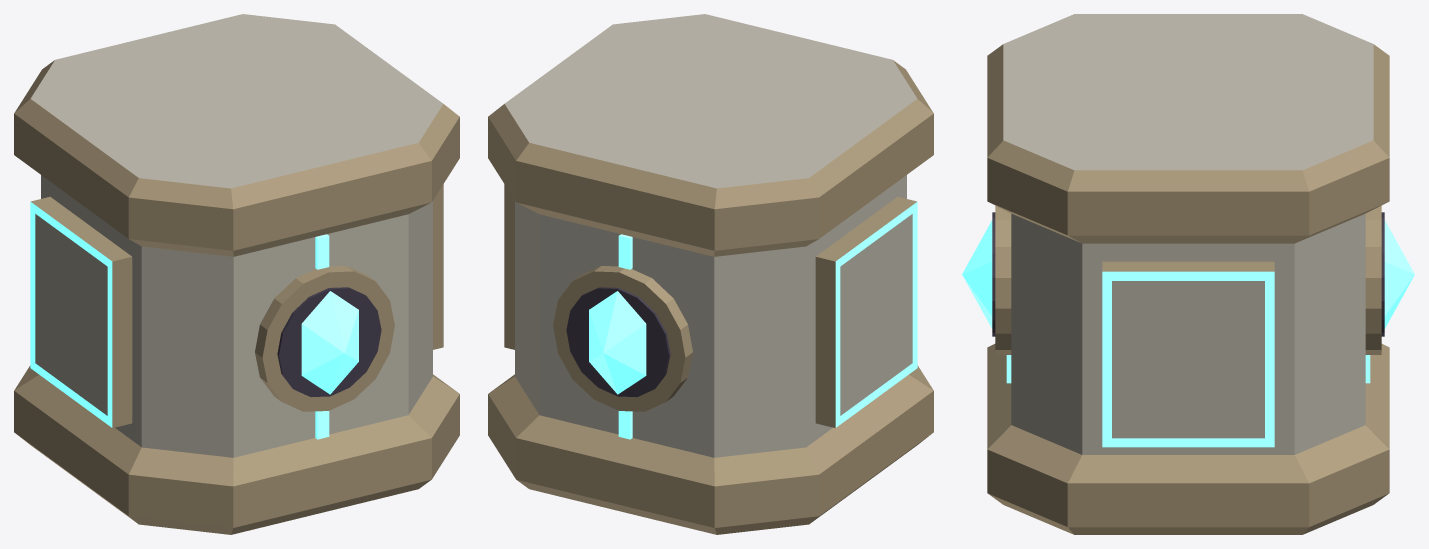
Rendered from CoreAltar.glb.
3 renders of one model, left to right at view 1: azimuth 30°, elevation 25°; view 2: azimuth 150°, elevation 25°; view 3: azimuth 270°, elevation 25°, orthographic. The views are drawn at different scales.
Parts seen in each view (by area): view 1: CoreAltar; view 2: CoreAltar; view 3: CoreAltar.
Part boxes in pixels (bbox=[...]): CoreAltar: bbox=[14, 14, 459, 534]; CoreAltar: bbox=[488, 14, 933, 534]; CoreAltar: bbox=[962, 14, 1414, 534].
Bounding box in the file's own units: 1 × 1 × 1.13.
